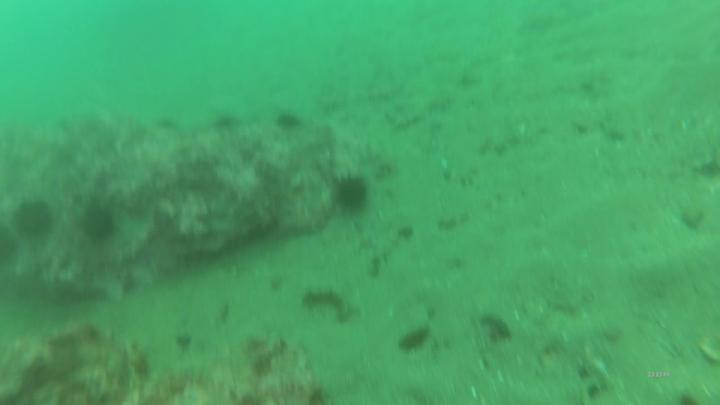echinus: (74, 196, 130, 246), (326, 165, 376, 218), (7, 195, 58, 238)
